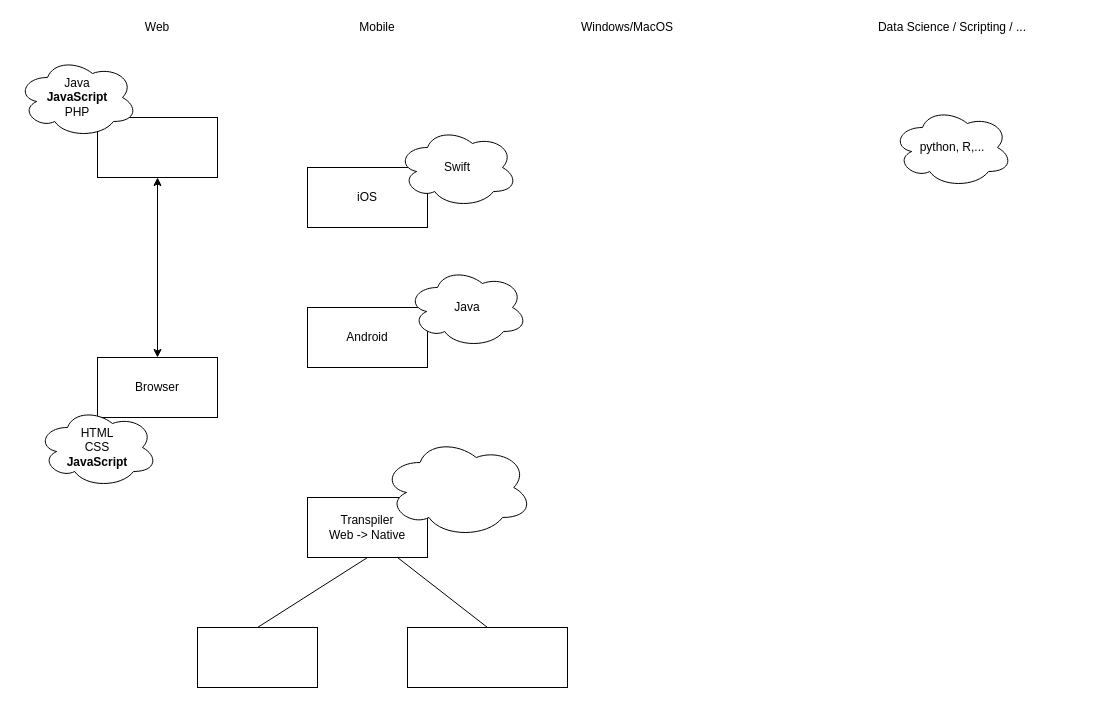
The diagram is 1095 pixels wide and 705 high, and some of its shapes have lost their labels. The shapes that lost their labels are listed below. From the top down, each one's centre as x and y in pixels, then its label:
(x=157, y=147): Server
(x=457, y=487): ReactNative Apache Cordova ...
(x=257, y=657): Web Wrapper e.g. Apache Cordova
(x=487, y=657): JavaScript -> Native Code e.g. ReactNative
